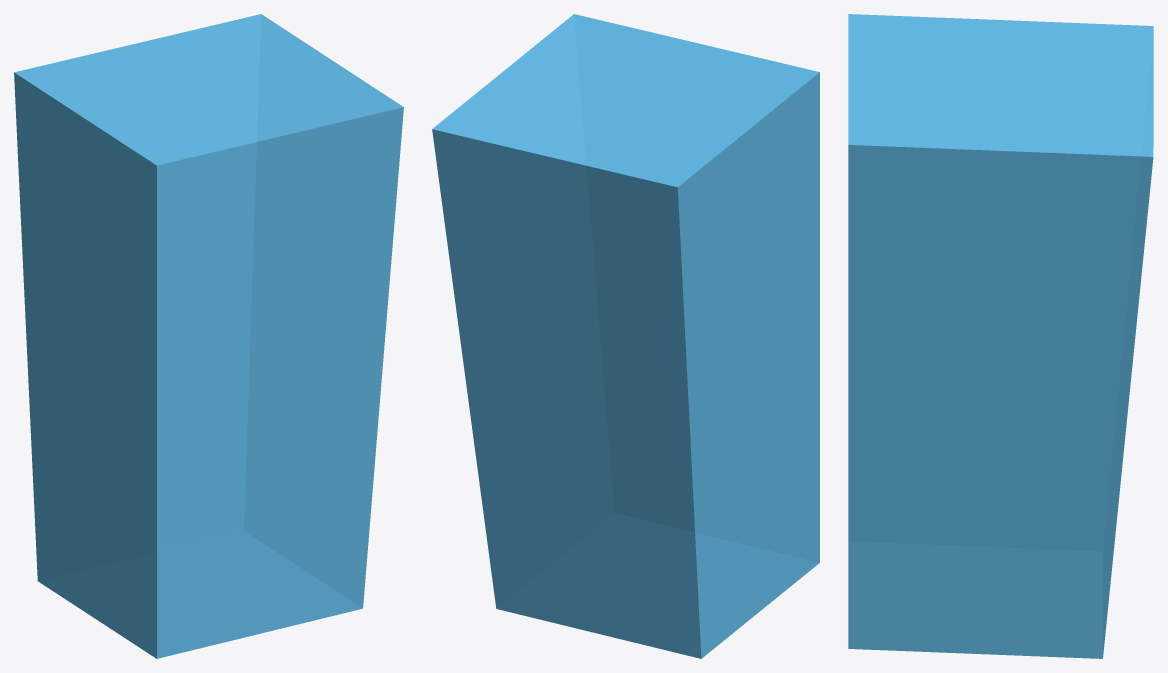
The model's file is Event_420604493_HBrechit_26.fbx.
3 renders of one model, left to right at view 1: azimuth 30°, elevation 25°; view 2: azimuth 150°, elevation 25°; view 3: azimuth 270°, elevation 25°, orthographic. The views are drawn at different scales.
Visible parts, largest first — view 1: Model; view 2: Model; view 3: Model.
Boxes of the visible parts, x1,y1,x2,y2 form: Model: [14, 14, 403, 658]; Model: [432, 14, 819, 658]; Model: [848, 14, 1153, 658].
Bounding box in the file's own units: 0.4807 × 0.9345 × 0.4812.
